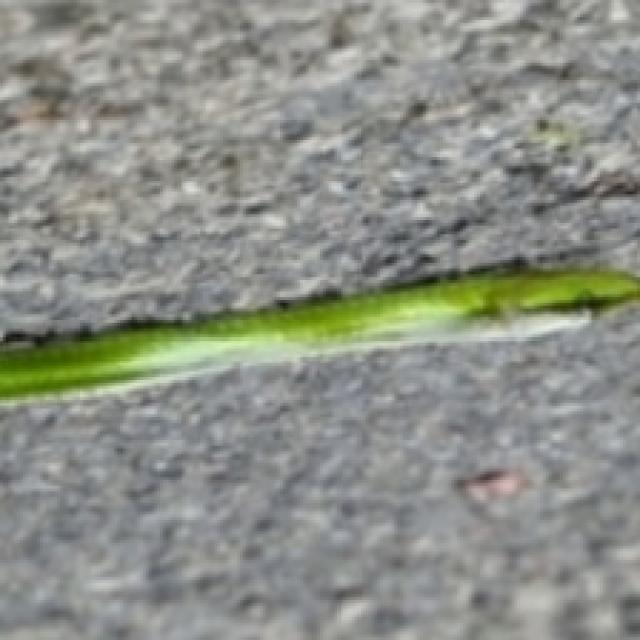red-tailed green ratsnake: (0, 269, 637, 400)
